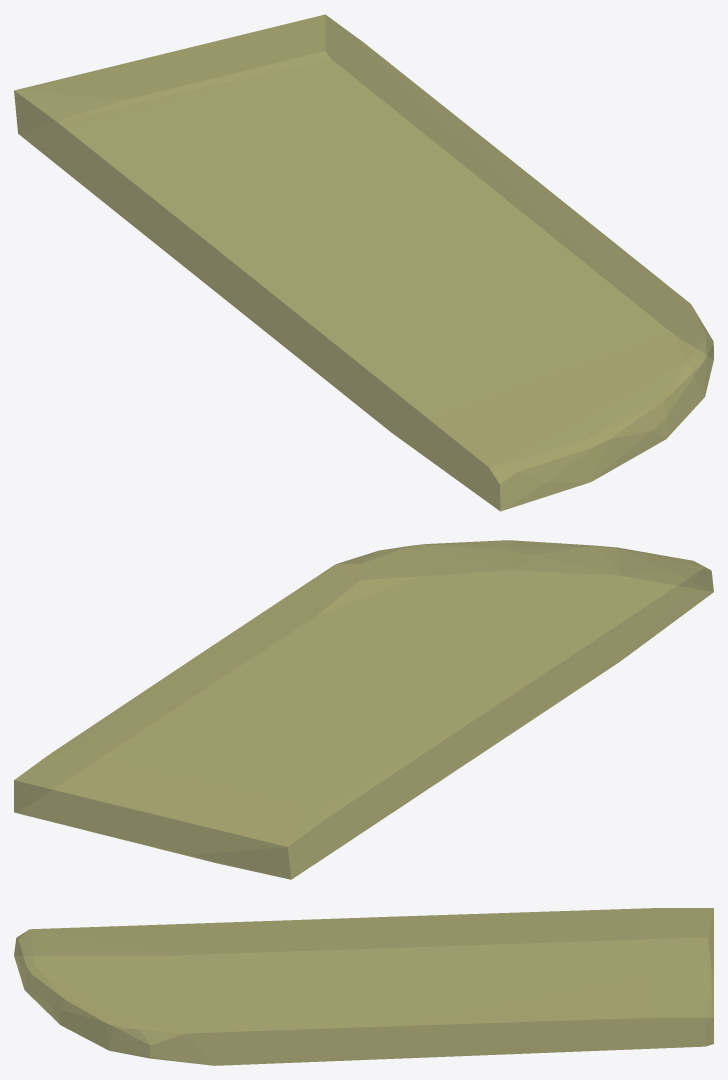
3 renders of one model, top to bottom at view 1: azimuth 30°, elevation 25°; view 2: azimuth 150°, elevation 25°; view 3: azimuth 270°, elevation 25°, orthographic. The views are drawn at different scales.
Visible parts, largest first — view 1: Shape_IndexedFaceSet.006_Shape_IndexedFaceSet.3167; view 2: Shape_IndexedFaceSet.006_Shape_IndexedFaceSet.3167; view 3: Shape_IndexedFaceSet.006_Shape_IndexedFaceSet.3167.
Boxes of the visible parts, x1,y1,x2,y2 form: Shape_IndexedFaceSet.006_Shape_IndexedFaceSet.3167: [14, 14, 713, 511]; Shape_IndexedFaceSet.006_Shape_IndexedFaceSet.3167: [14, 540, 713, 879]; Shape_IndexedFaceSet.006_Shape_IndexedFaceSet.3167: [14, 908, 713, 1065].
Bounding box in the file's own units: 0.415 × 0.0839 × 1.12.
